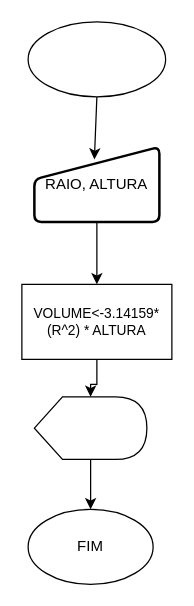
This 194x606 diagram has some shape labels left out. The shapes that lost their labels are listed below. From the top down, each one's box as (x1, y1, x2, y2) in pixels, then its label:
(27, 21, 166, 97): INICIO
(33, 396, 147, 459): VOLUME
